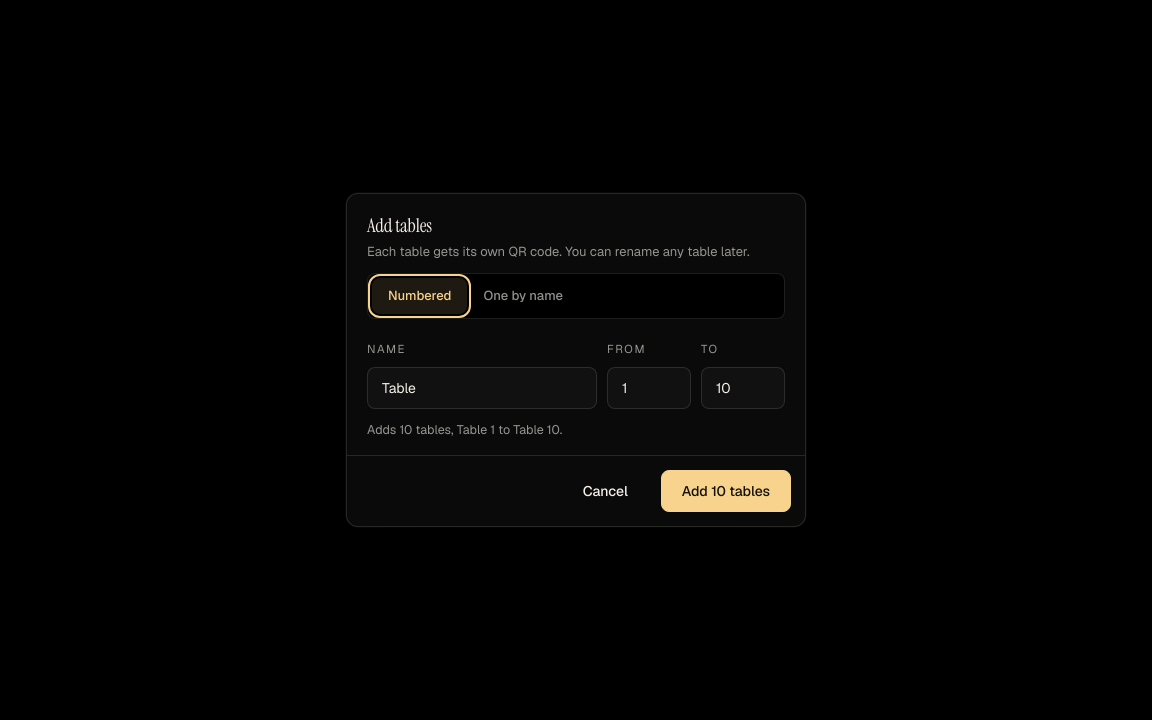
Test: AddTablesDialog › shows a failure that names no field above the form
Expected: the field labelled "Name" holds "Table", [368, 368, 596, 408]
Click the button "Add 10 tables".
click(726, 491)  # box [661, 470, 791, 512]
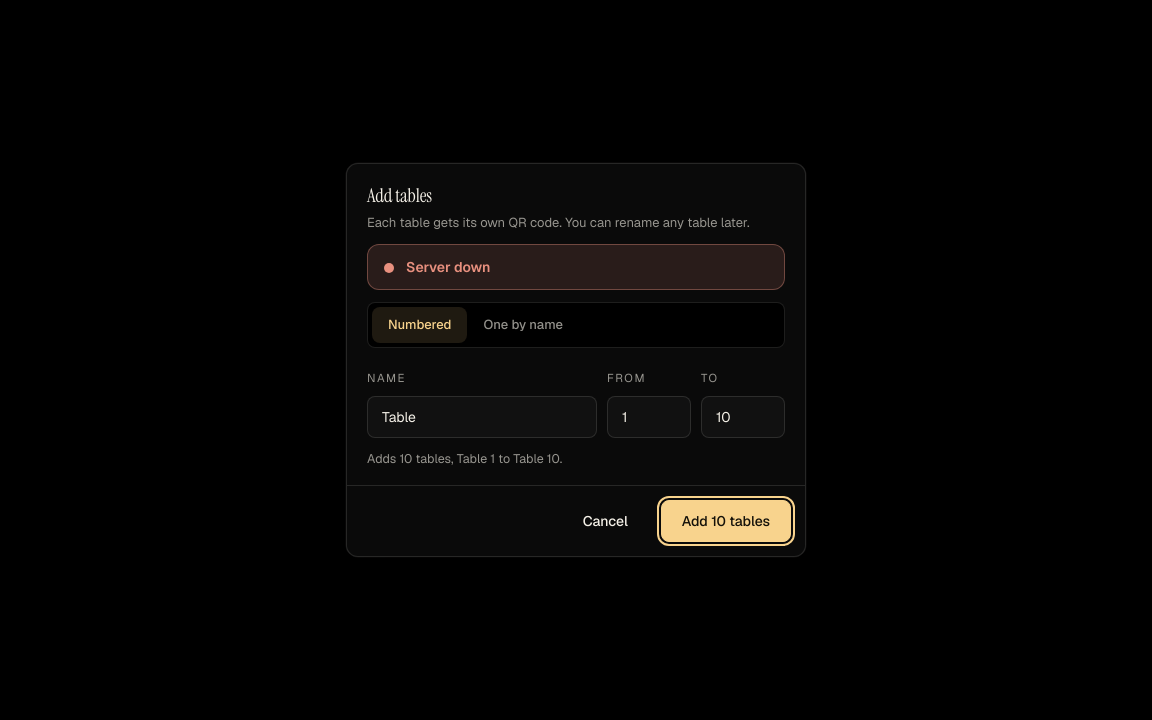
Expected: the message reads "Server down", [406, 258, 490, 276]
Switching how to add them starts clean.
Click the tab "One by name".
click(523, 325)  # box [468, 307, 579, 343]
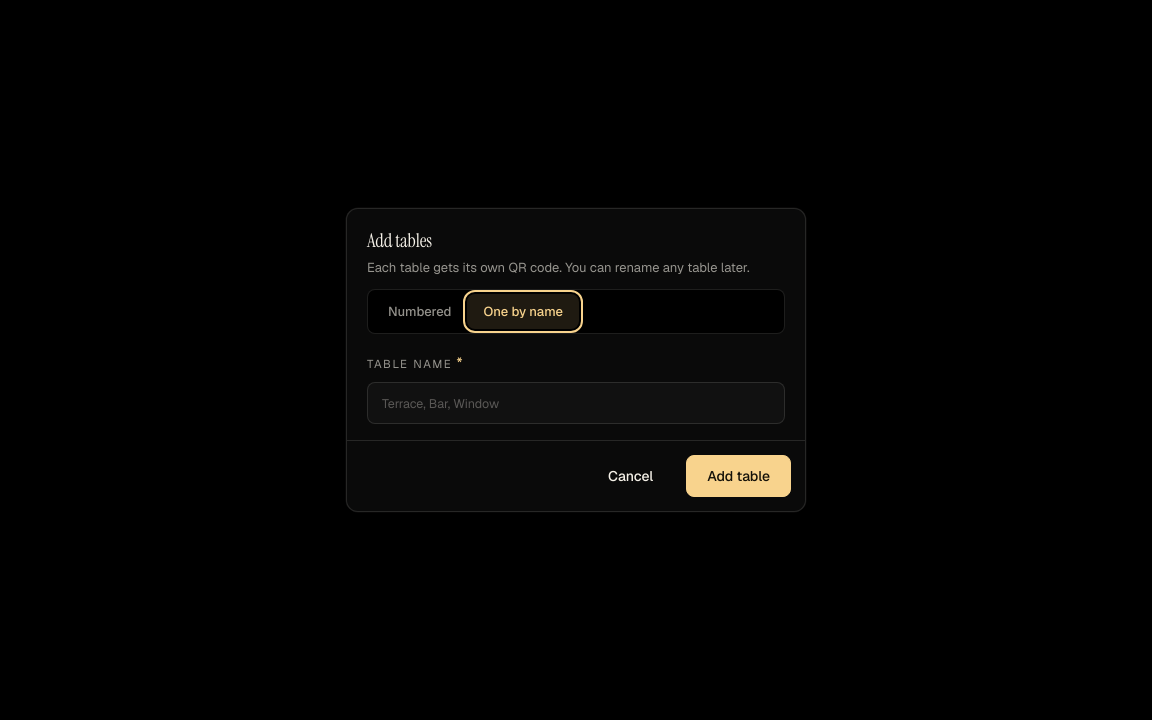
Expected: the message "Server down" is gone
